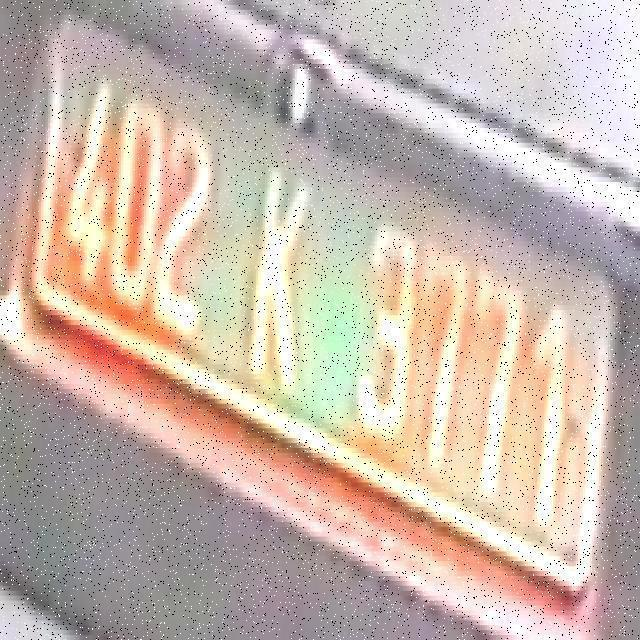license-plate: (49, 15, 615, 612)
